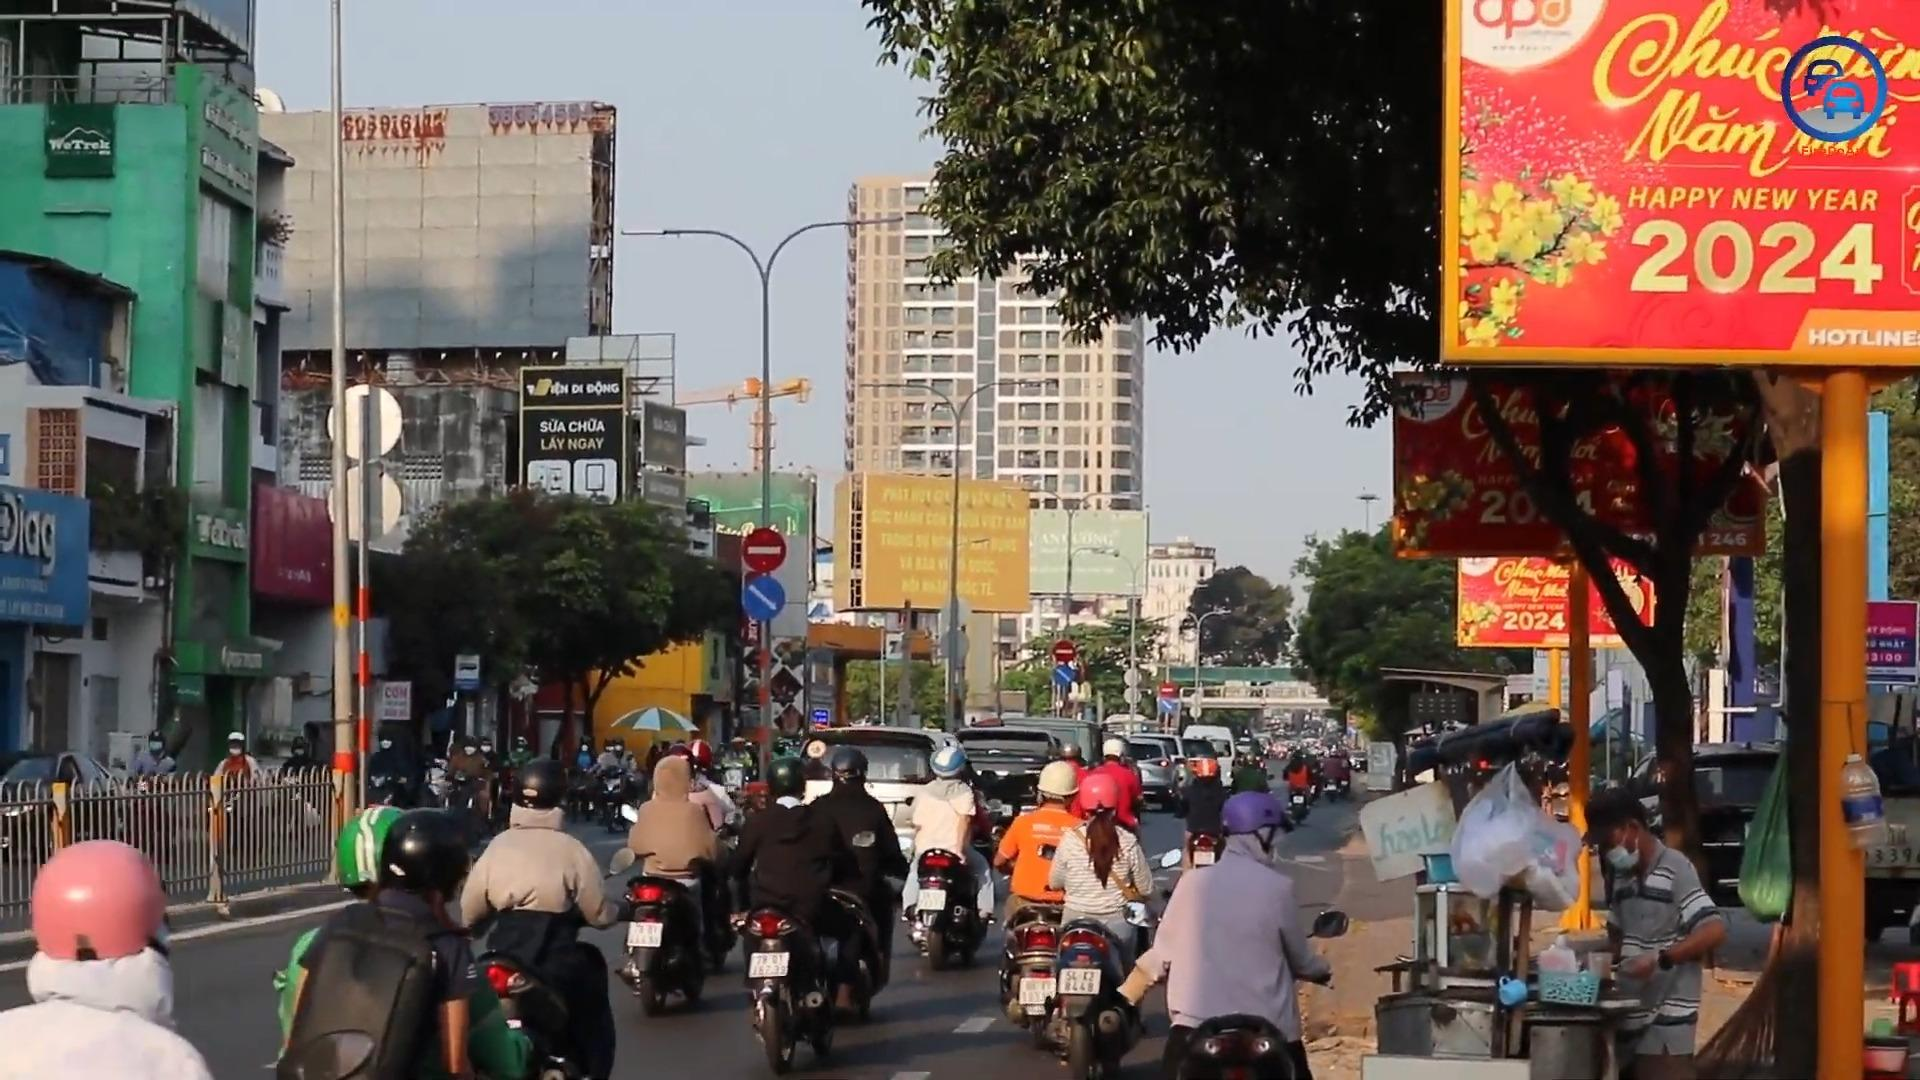bien_so: (1057, 967, 1102, 996), (747, 951, 789, 979), (1017, 976, 1056, 1006), (626, 920, 664, 949), (916, 889, 947, 911)
